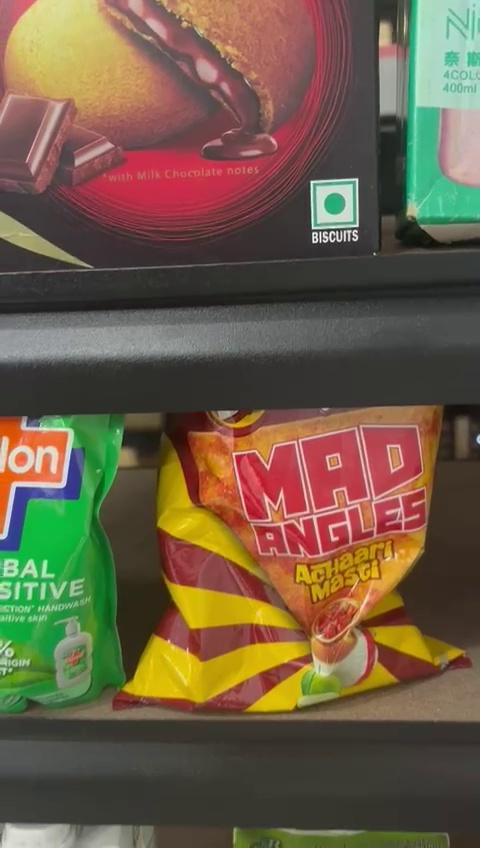Bingo Mad Angles: (139, 413, 456, 719)
